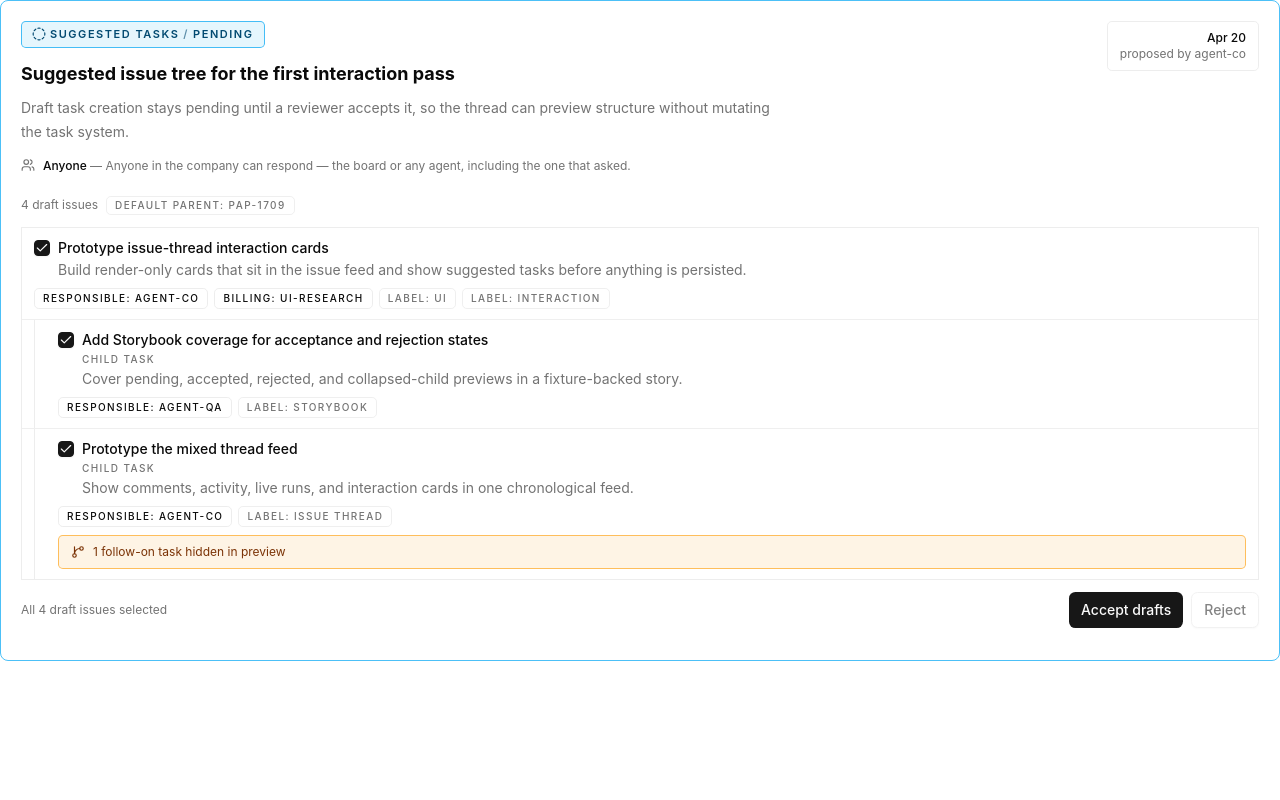
it: IssueThreadInteractionCard › surfaces a denied suggested-task acceptance instead of failing silently
Click the button "Accept drafts" at point(1126, 610), box [1069, 592, 1183, 628]
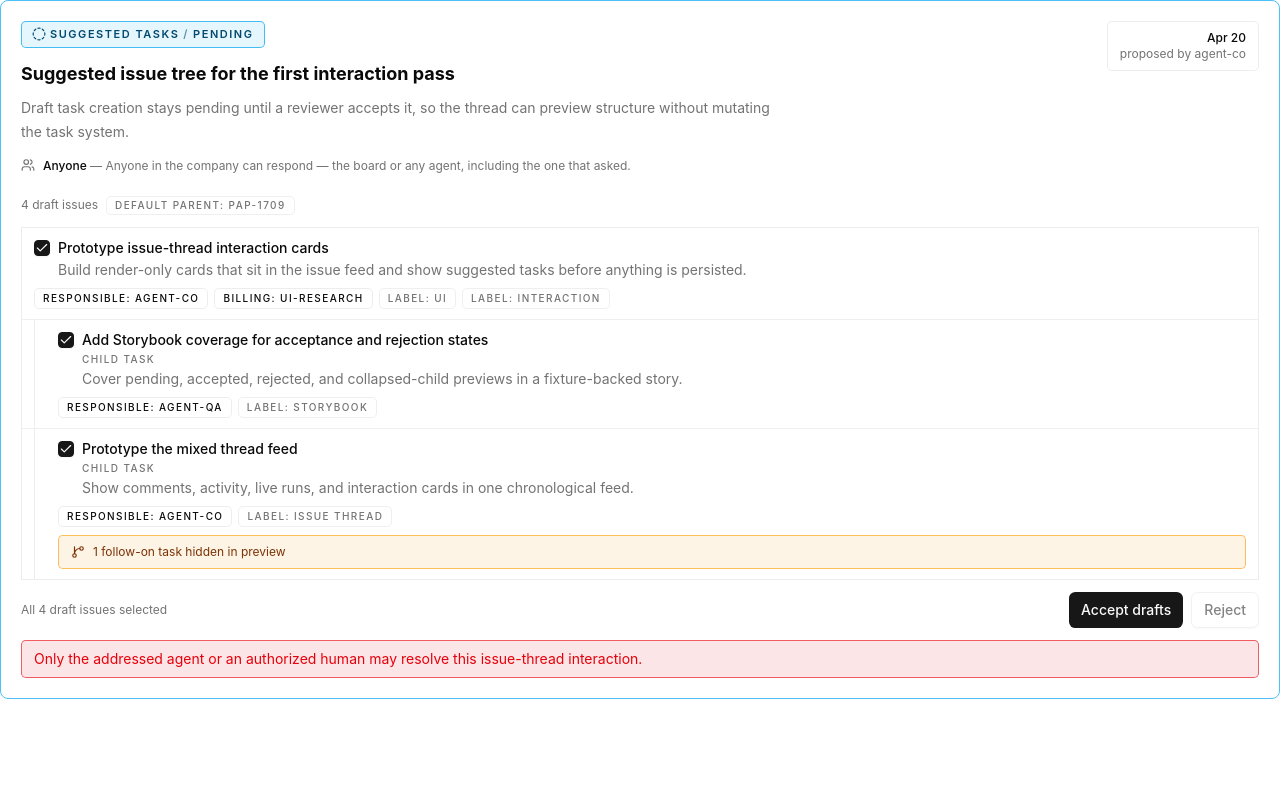
Check: the element with test id "interaction-action-error" shows "may resolve this issue-thread interaction.", box [34, 650, 642, 667]
